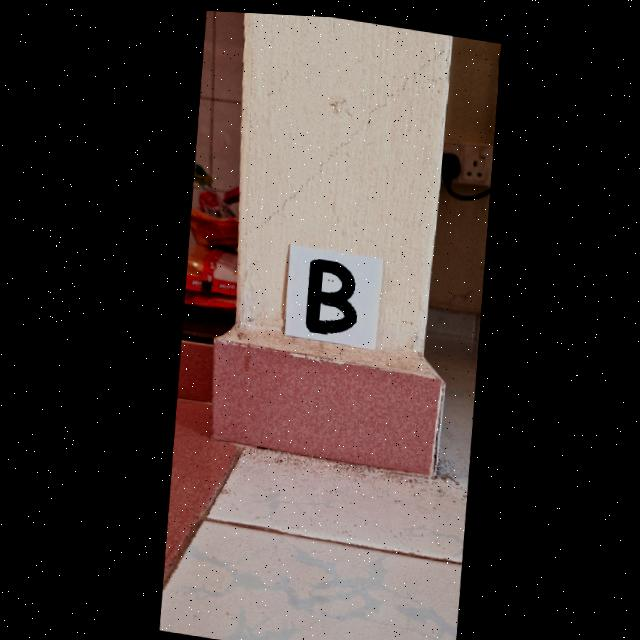B: (303, 256, 353, 330)
